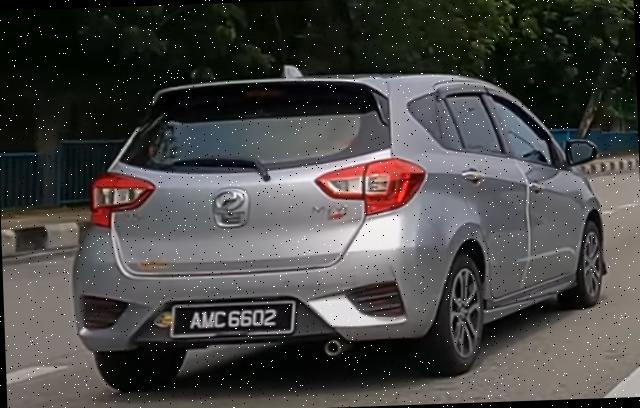License_Plate: (168, 300, 297, 341)
car: (64, 59, 613, 396)
